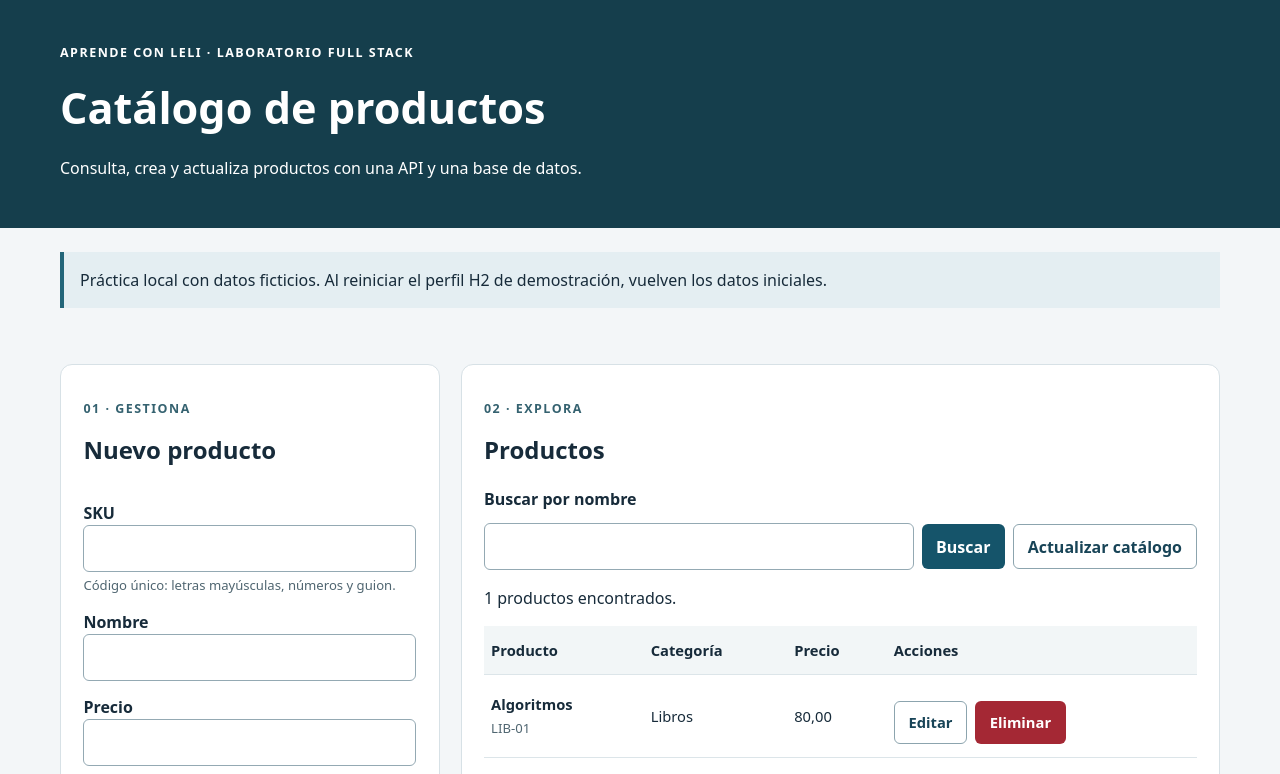
crea con tipos numéricos, confirma y vuelve a consultar
Expected: the button with aria-label "Editar Algoritmos" is shown, [894,700,967,744]
Type "NUEVO-1" into the field labelled "SKU" at [250, 548], box [83,525,416,572]
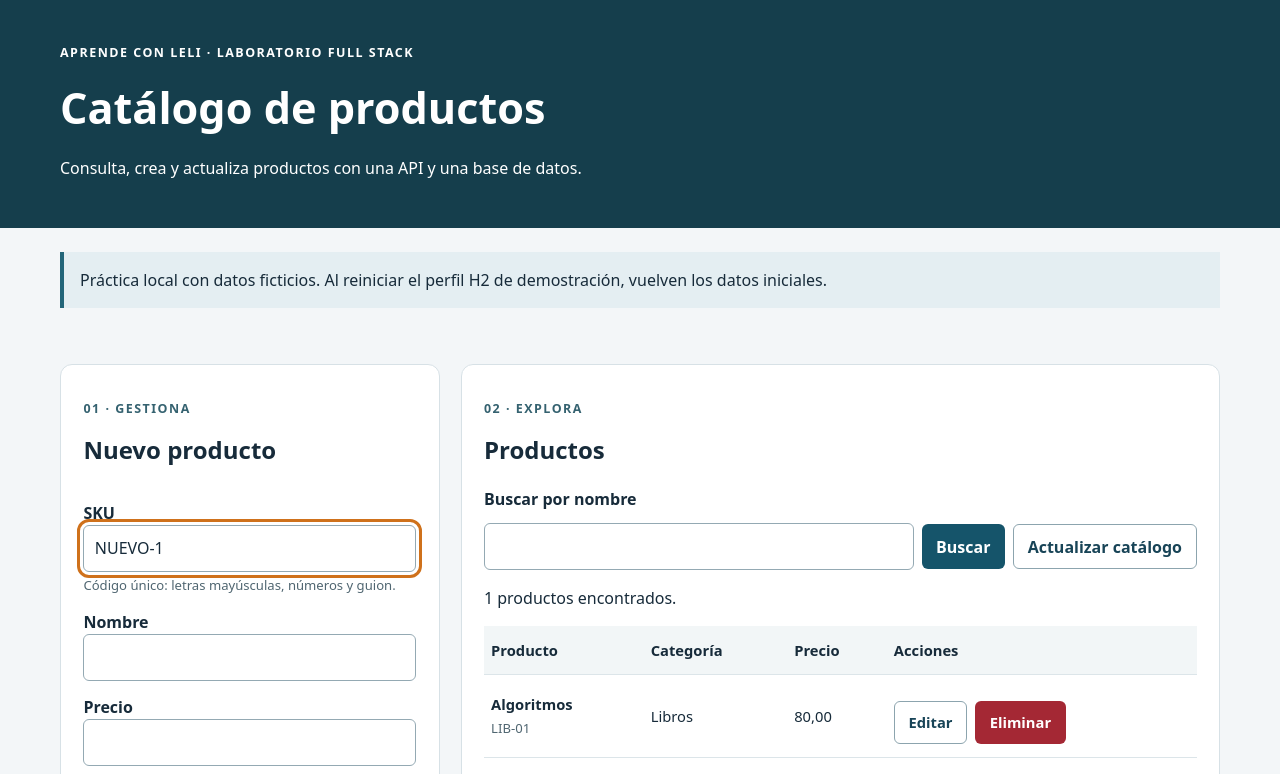
Type "Libro nuevo" into the field labelled "Nombre" at [250, 657], box [83,634,416,681]
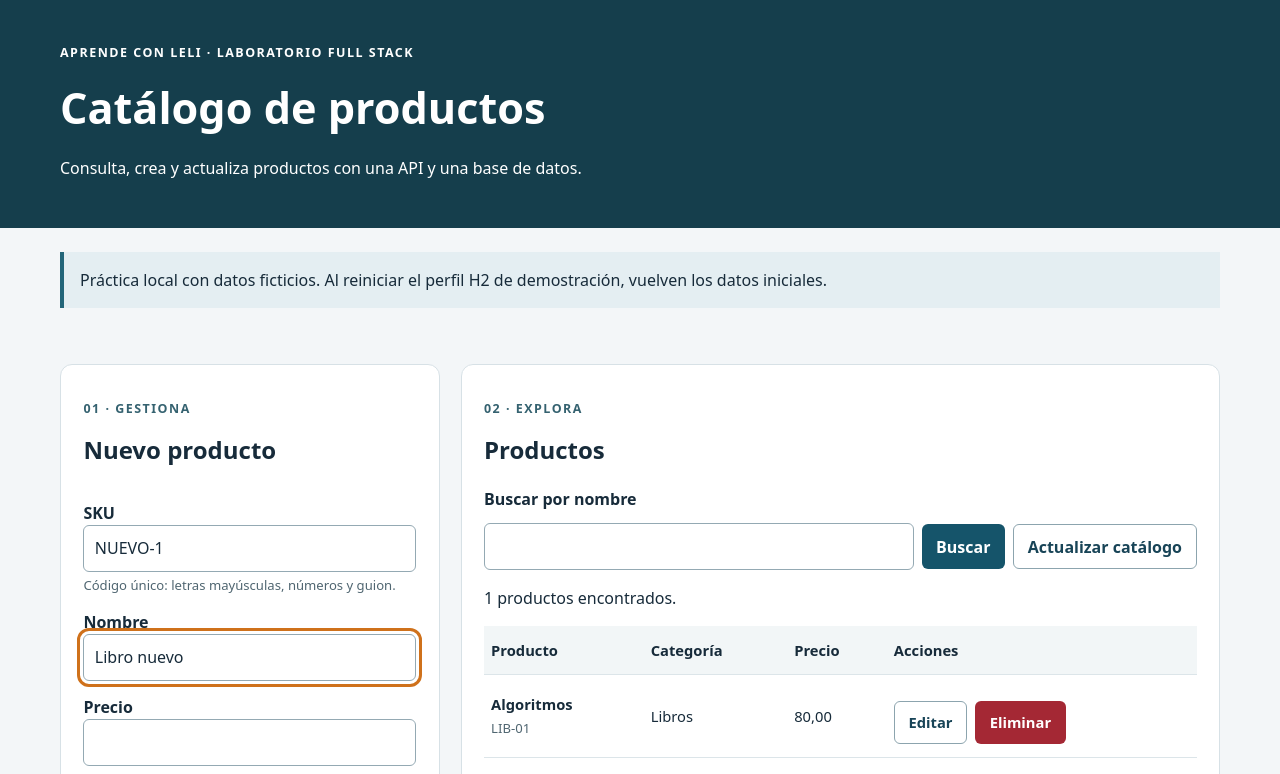
Type "25.50" into the number field labelled "Precio" at [250, 742], box [83,719,416,766]
(page scrolled)
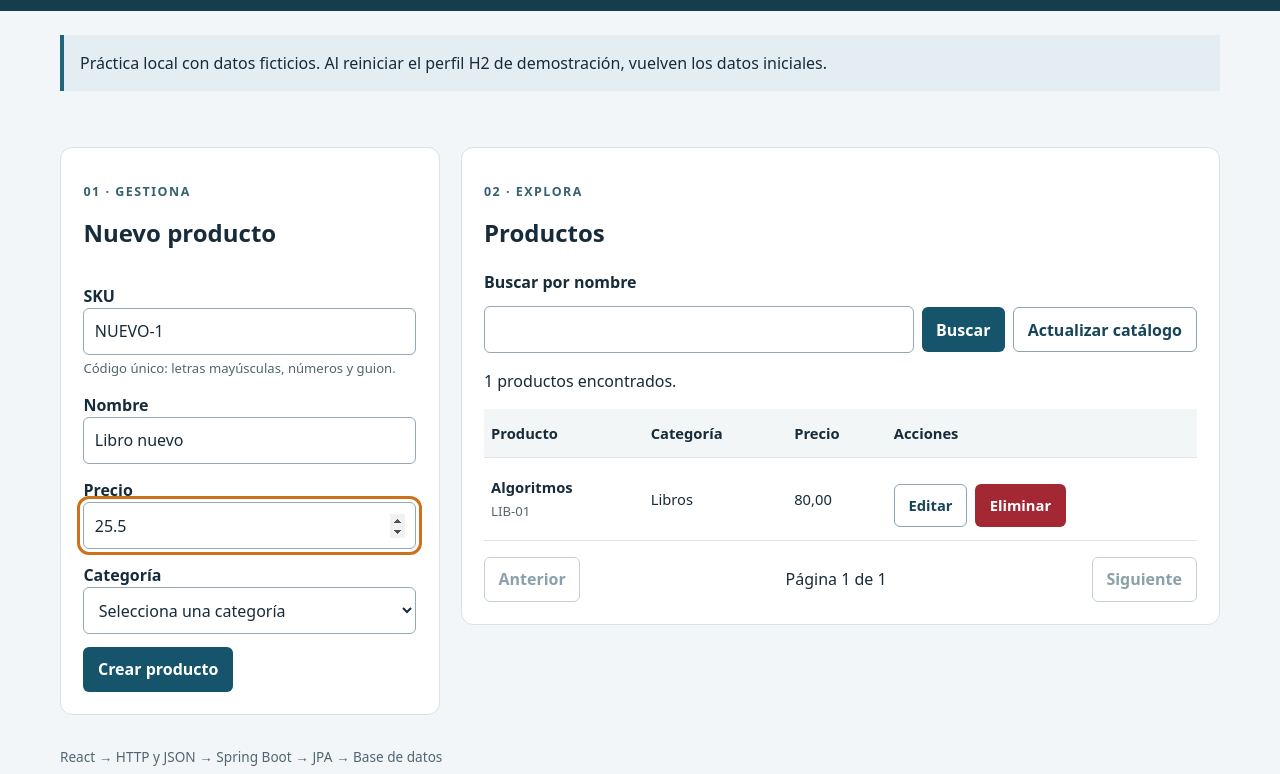
Select "Libros" in the dropdown labelled "Categoría" at [250, 611], box [83,587,416,634]
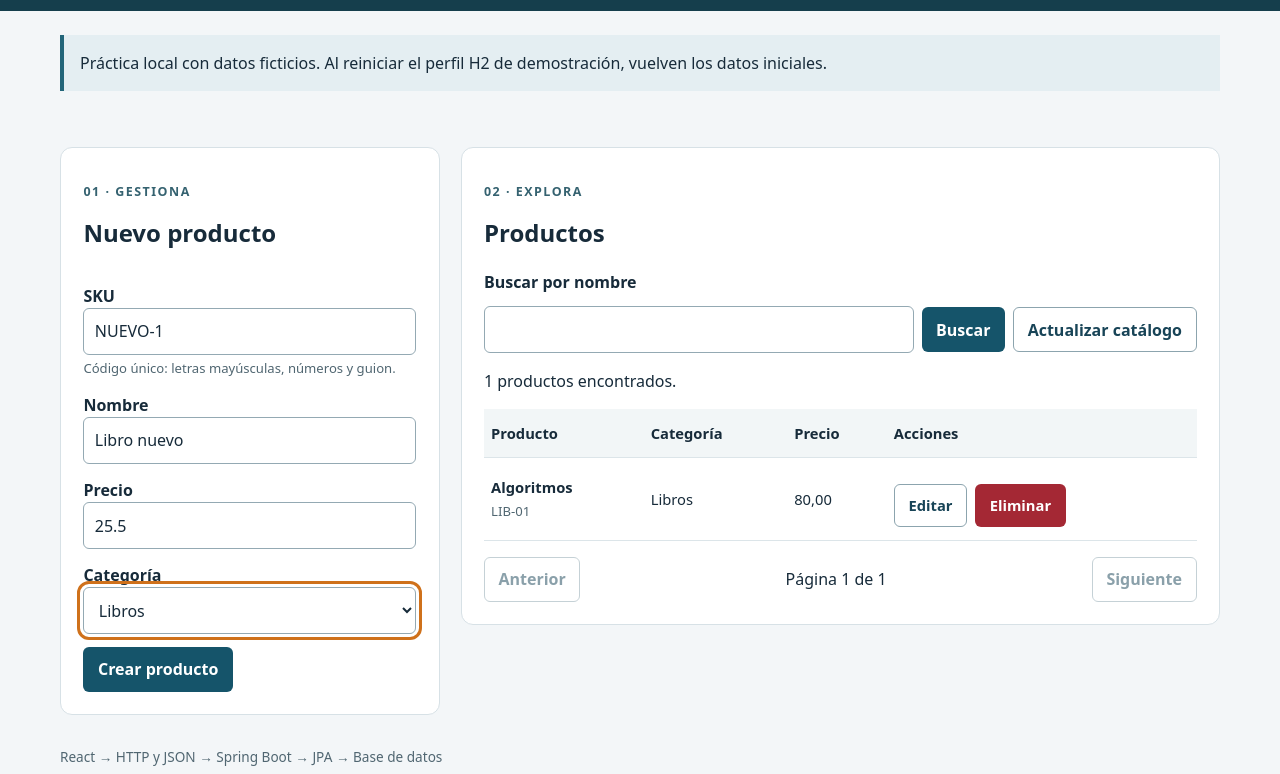
Click the button "Crear producto" at [158, 670], box [83,647,233,692]
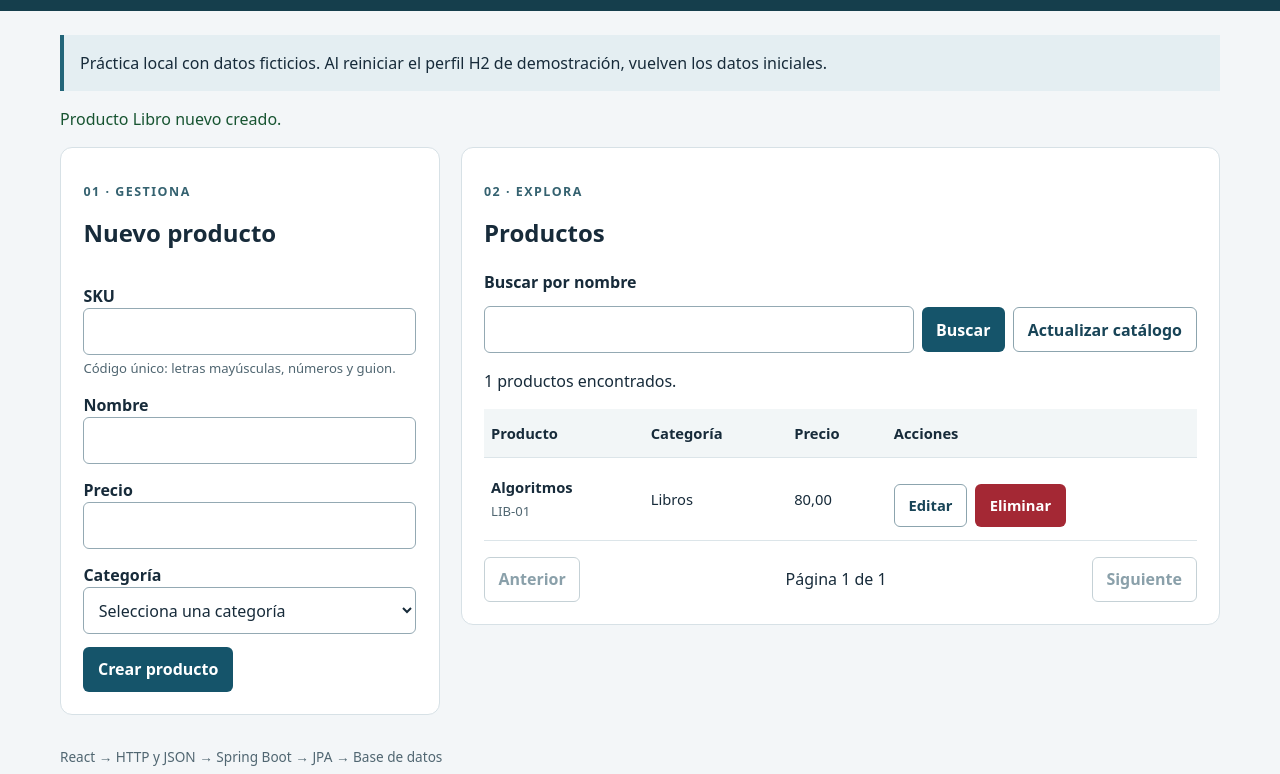
Result: the text "Producto Libro nuevo creado." is shown at [60,108,281,130]
Result: the field labelled "Nombre" is empty at [83,417,416,464]
